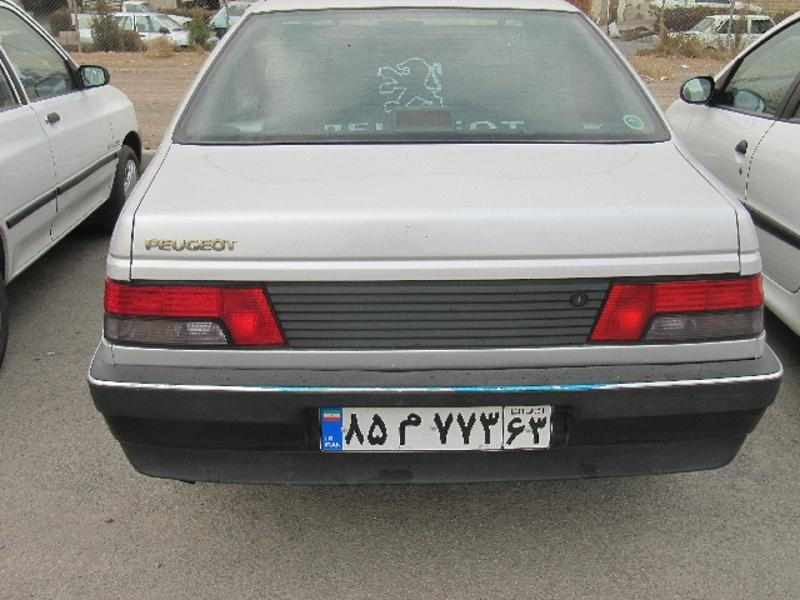Plate: (317, 404, 559, 453)
